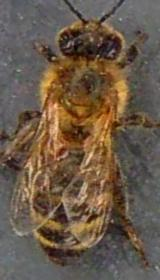varroa_mite: (43, 133, 77, 167)
